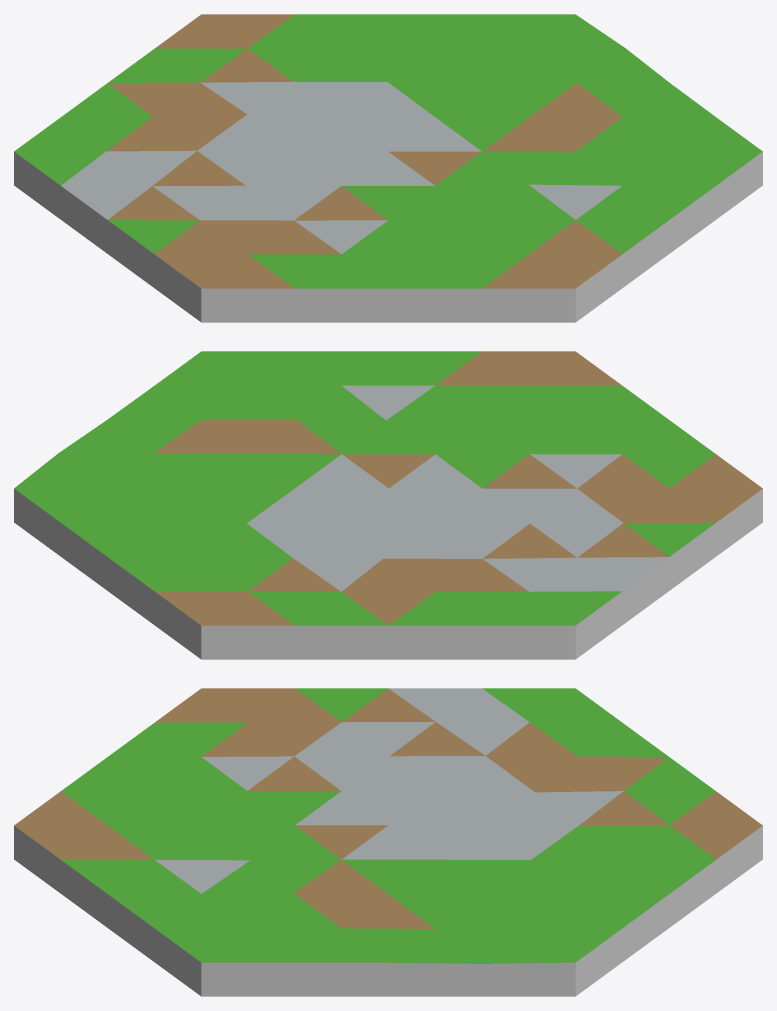
File: BasicTile.fbx
The picture shows the model from 3 angles, top to bottom: view 1: azimuth 30°, elevation 25°; view 2: azimuth 150°, elevation 25°; view 3: azimuth 270°, elevation 25°; orthographic projection.
Visible parts, largest first — view 1: Cylinder; view 2: Cylinder; view 3: Cylinder.
Part boxes in pixels (x1,y1,x2,y2): Cylinder: [14, 14, 762, 322]; Cylinder: [14, 351, 762, 659]; Cylinder: [14, 688, 762, 996].
Bounding box in the file's own units: 87033 × 5000 × 100000.
